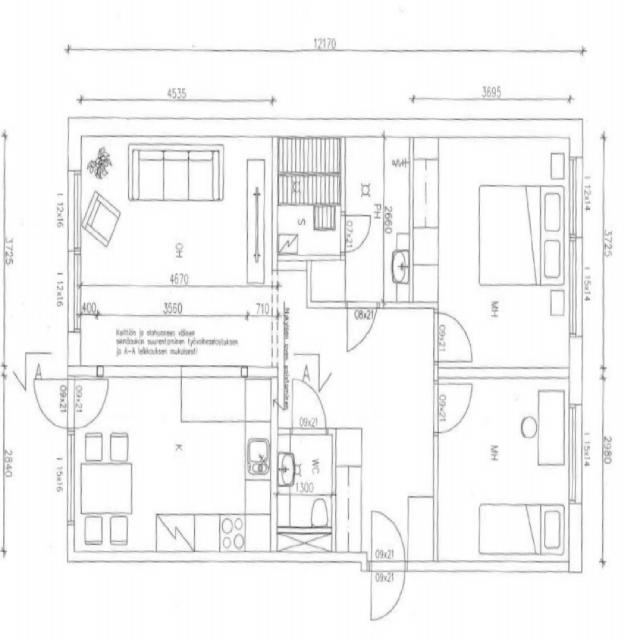door: (33, 379, 74, 429), (371, 561, 405, 620), (67, 379, 107, 429), (371, 513, 405, 571), (292, 378, 326, 434), (434, 312, 472, 362), (433, 383, 471, 432), (347, 302, 376, 351), (340, 215, 371, 252)
